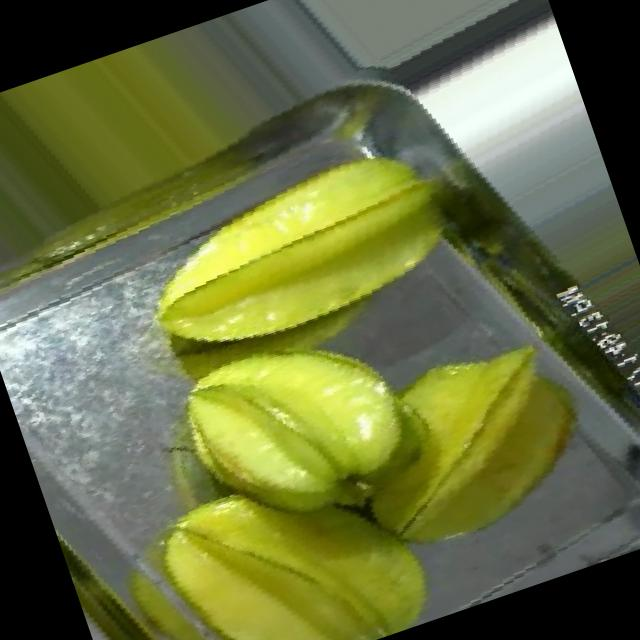fruit: (96, 102, 508, 440), (291, 281, 640, 609), (120, 267, 467, 586), (95, 399, 473, 640)
